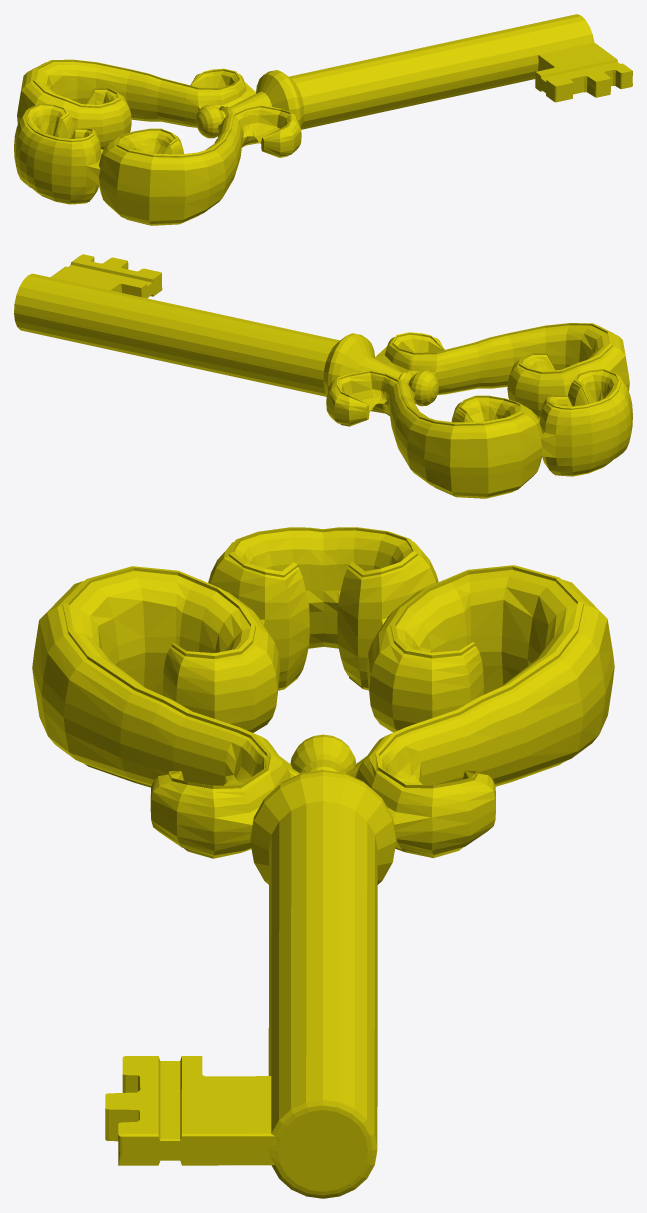
File: old_key.obj
3 renders of one model, top to bottom at view 1: azimuth 30°, elevation 25°; view 2: azimuth 150°, elevation 25°; view 3: azimuth 270°, elevation 25°, orthographic. The views are drawn at different scales.
Parts seen in each view (by area): view 1: Object.1; view 2: Object.1; view 3: Object.1.
Boxes of the visible parts, <box> form: Object.1: <box>14,14,632,225</box>; Object.1: <box>14,254,632,498</box>; Object.1: <box>32,527,614,1198</box>.
Size of the model in its own units: 197 by 25.01 by 88.87.
